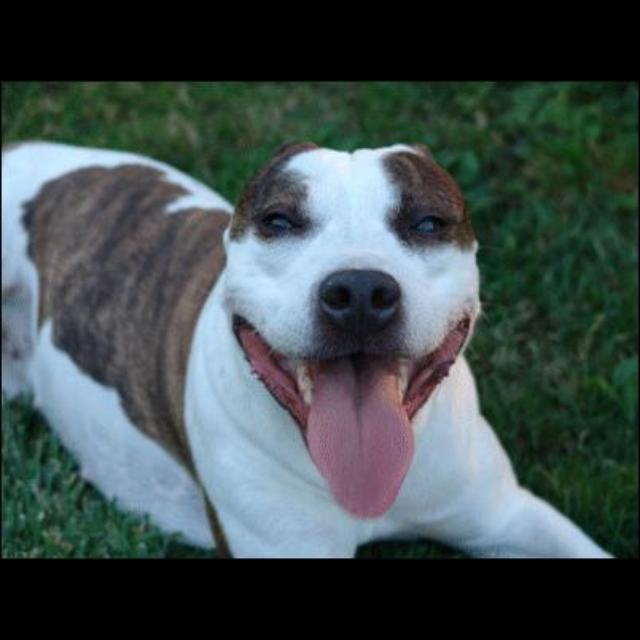amstaff: (2, 137, 629, 560)
